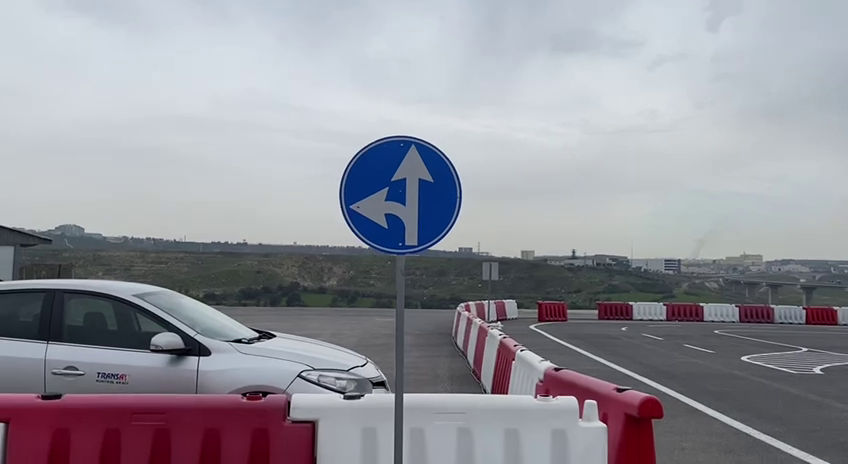forwardAndLeft: (336, 131, 465, 258)
